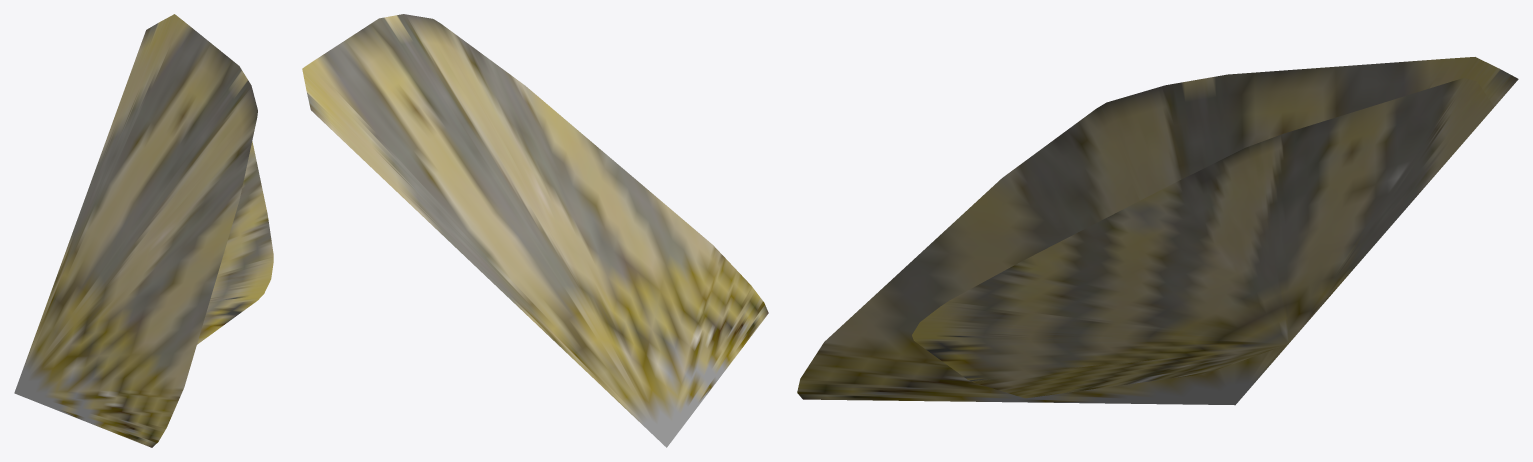
Rendered from guard-left.glb.
3 renders of one model, left to right at view 1: azimuth 30°, elevation 25°; view 2: azimuth 150°, elevation 25°; view 3: azimuth 270°, elevation 25°, orthographic. The views are drawn at different scales.
Parts seen in each view (by area): view 1: left-panel-2, left-panel-1; view 2: left-panel-2; view 3: left-panel-1, left-panel-2.
Part boxes in pixels (x1,y1,x2,y2): left-panel-2: [14, 14, 257, 447]; left-panel-1: [197, 141, 273, 344]; left-panel-2: [302, 14, 768, 447]; left-panel-1: [912, 78, 1493, 398]; left-panel-2: [797, 57, 1518, 405].
Size of the model in its own units: 0.7963 by 0.9317 by 1.08.
